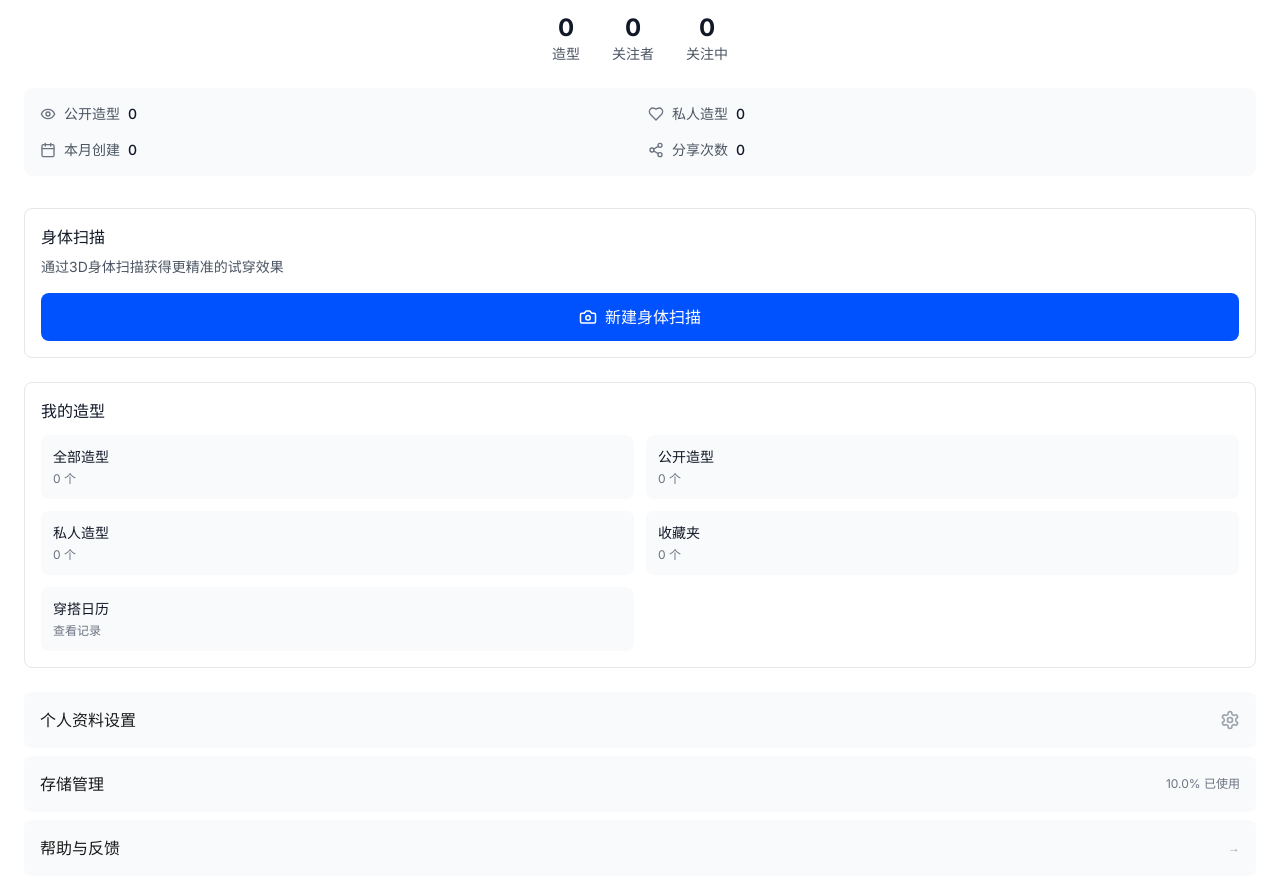
Test: 用户管理属性测试 › 个人资料设置 › 应该支持展开和收起设置菜单
(page scrolled)
Expected: the text "编辑个人信息" is not shown
# 点击展开设置菜单
Click the button "个人资料设置".
click(88, 720)  # box [24,692,1256,748]
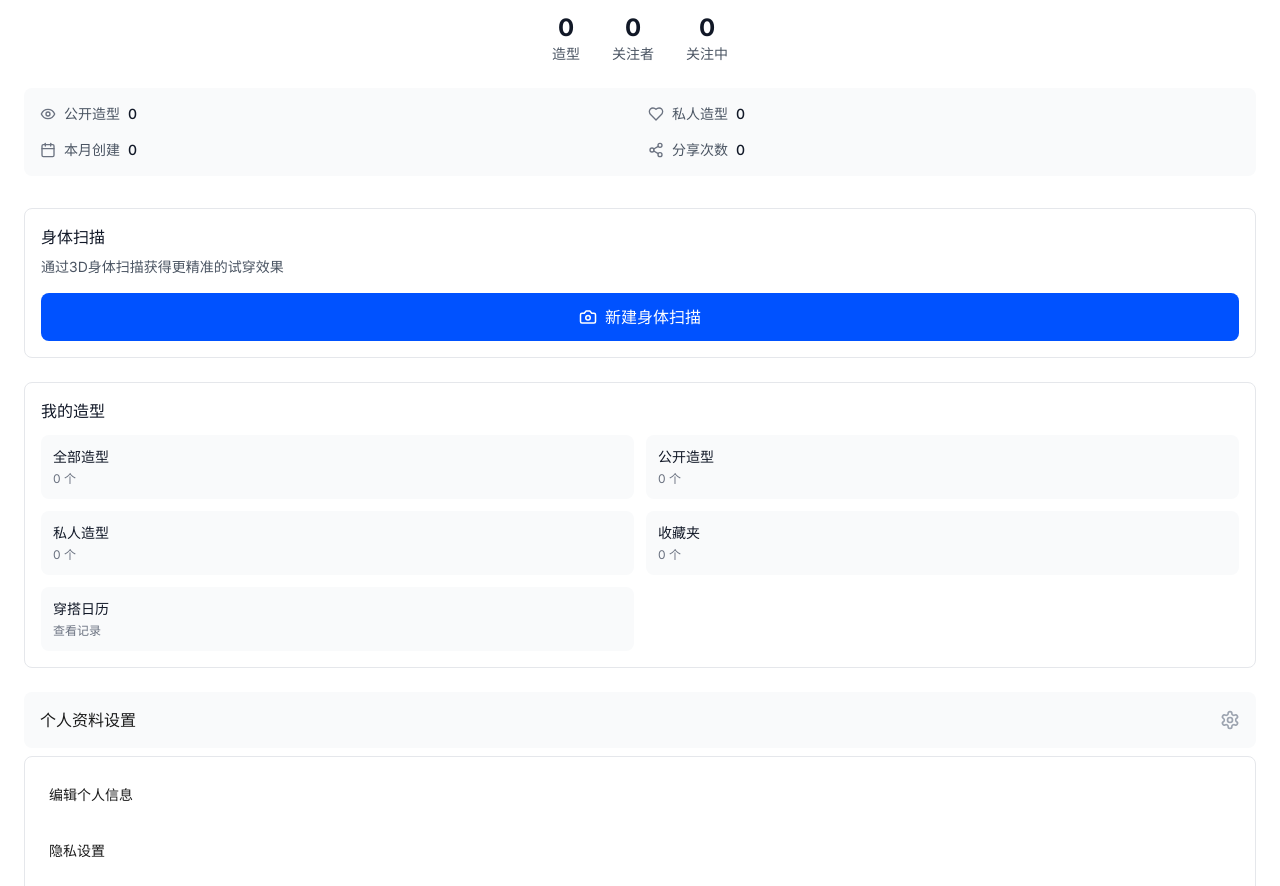
Now the button "编辑个人信息" is shown, box [41,773,1239,817]
# 再次点击收起设置菜单
Click the button "个人资料设置".
click(88, 720)  # box [24,692,1256,748]
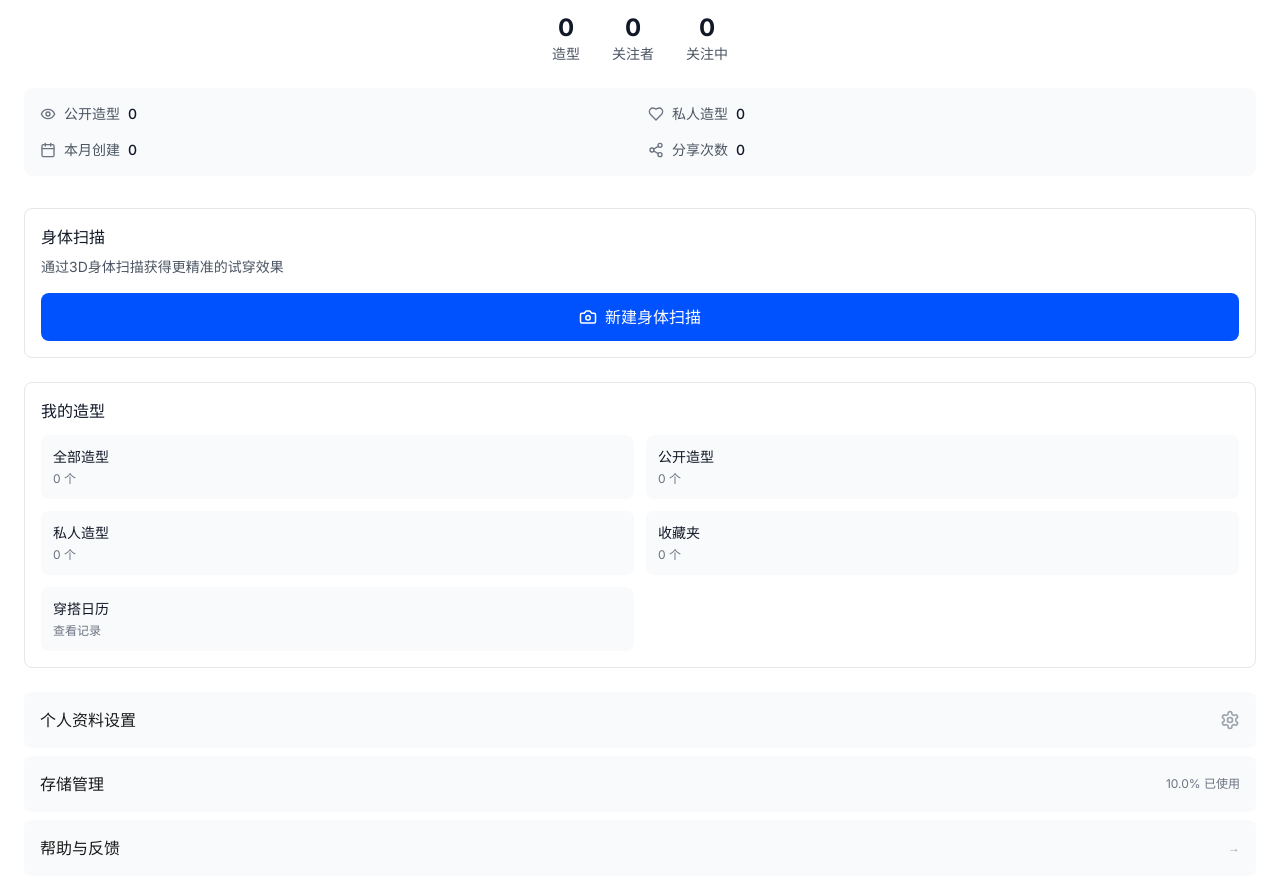
Now the button "编辑个人信息" is gone
